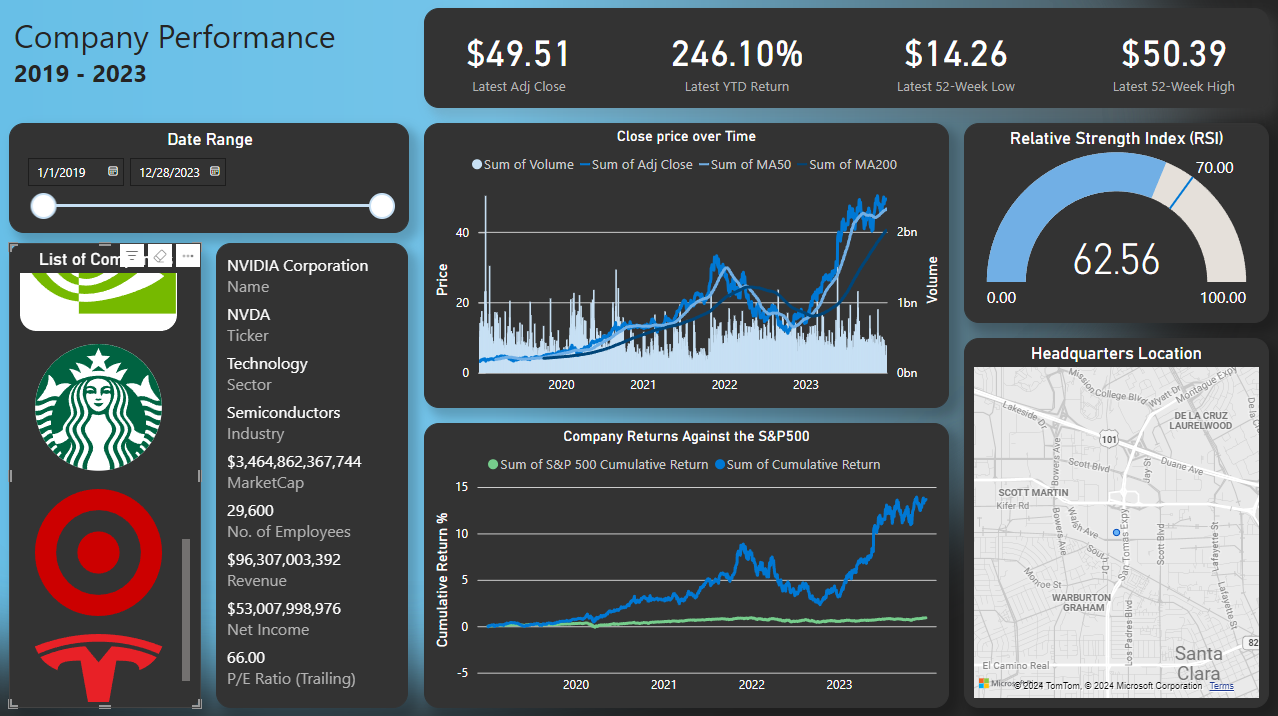

What the dashboard file says about the page in this screenshot:
{"tool":"powerbi","page":{"name":"Company Information","canvas":[1280,720],"ordinal":0},"visuals":[{"type":"shape","box":[425,425,525,285],"z":0},{"type":"shape","box":[425,125,525,285],"z":1000},{"type":"shape","box":[965,125,305,200],"z":2000},{"type":"shape","box":[965,340,305,370],"z":3000},{"type":"shape","box":[425,10,845,100],"z":4000},{"type":"textbox","box":[10,10,400,100],"z":5000},{"type":"slicer","title":"Date Range","fields":{"Values":["StockData.Date"]},"box":[10,125,400,110],"z":6000},{"type":"advancedSlicerVisual","title":"List of Companies","fields":{"Values":["CompanyData.Logo URL"]},"box":[10,245,192,465],"z":7000},{"type":"multiRowCard","fields":{"Values":["CompanyData.Name","CompanyData.Ticker","CompanyData.Sector","CompanyData.Industry","CompanyData.MarketCap","CompanyData.No. of Employees","CompanyData.Revenue","CompanyData.Net Income","CompanyData.P/E Ratio (Trailing)"]},"box":[217,245,192,465],"z":8000},{"type":"card","fields":{"Values":["StockData.Latest Adj Close"]},"box":[430,15,180,90],"z":9000},{"type":"card","fields":{"Values":["StockData.Latest YTD Return"]},"box":[648.3,15,180,90],"z":10000},{"type":"card","fields":{"Values":["StockData.Latest 52-Week Low"]},"box":[866.7,15,180,90],"z":11000},{"type":"card","fields":{"Values":["StockData.Latest 52-Week High"]},"box":[1085,15,180,90],"z":12000},{"type":"gauge","title":"Relative Strength Index (RSI)","fields":{"Y":["StockData.Latest RSI"]},"box":[970,130,295,190],"z":13000},{"type":"map","title":"Headquarters Location","fields":{"Category":["CompanyData.Address"]},"box":[970,345,295,360],"z":14000},{"type":"lineClusteredColumnComboChart","title":"Close price over Time","fields":{"Category":["StockData.Date"],"Y2":["Sum(StockData.Adj Close)","Sum(StockData.MA50)","Sum(StockData.MA200)"],"Y":["Sum(StockData.Volume)"]},"box":[430,130,515,275],"z":15000},{"type":"lineChart","title":"Company Returns Against the S&P500","fields":{"Category":["StockData.Date"],"Y":["Sum(SP500Data.Cumulative Return)","Sum(StockData.Cumulative Return)"]},"box":[430,430,515,275],"z":16000}]}

Visuals, with their boxes in screenshot pixels (x1, y1, x2, y2), scaled from the page's 1280x720 canvas onto the 1278x716 screenshot:
shape: [left=424, top=423, right=949, bottom=706]
shape: [left=424, top=124, right=949, bottom=408]
shape: [left=963, top=124, right=1268, bottom=323]
shape: [left=963, top=338, right=1268, bottom=706]
shape: [left=424, top=10, right=1268, bottom=109]
textbox: [left=10, top=10, right=409, bottom=109]
"Date Range" slicer: [left=10, top=124, right=409, bottom=234]
"List of Companies" advancedSlicerVisual: [left=10, top=244, right=202, bottom=706]
multiRowCard - CompanyData.Name x CompanyData.Ticker: [left=217, top=244, right=408, bottom=706]
card - StockData.Latest Adj Close: [left=429, top=15, right=609, bottom=104]
card - StockData.Latest YTD Return: [left=647, top=15, right=827, bottom=104]
card - StockData.Latest 52-Week Low: [left=865, top=15, right=1045, bottom=104]
card - StockData.Latest 52-Week High: [left=1083, top=15, right=1263, bottom=104]
"Relative Strength Index (RSI)" gauge: [left=968, top=129, right=1263, bottom=318]
"Headquarters Location" map: [left=968, top=343, right=1263, bottom=701]
"Close price over Time" lineClusteredColumnComboChart: [left=429, top=129, right=944, bottom=403]
"Company Returns Against the S&P500" lineChart: [left=429, top=428, right=944, bottom=701]
